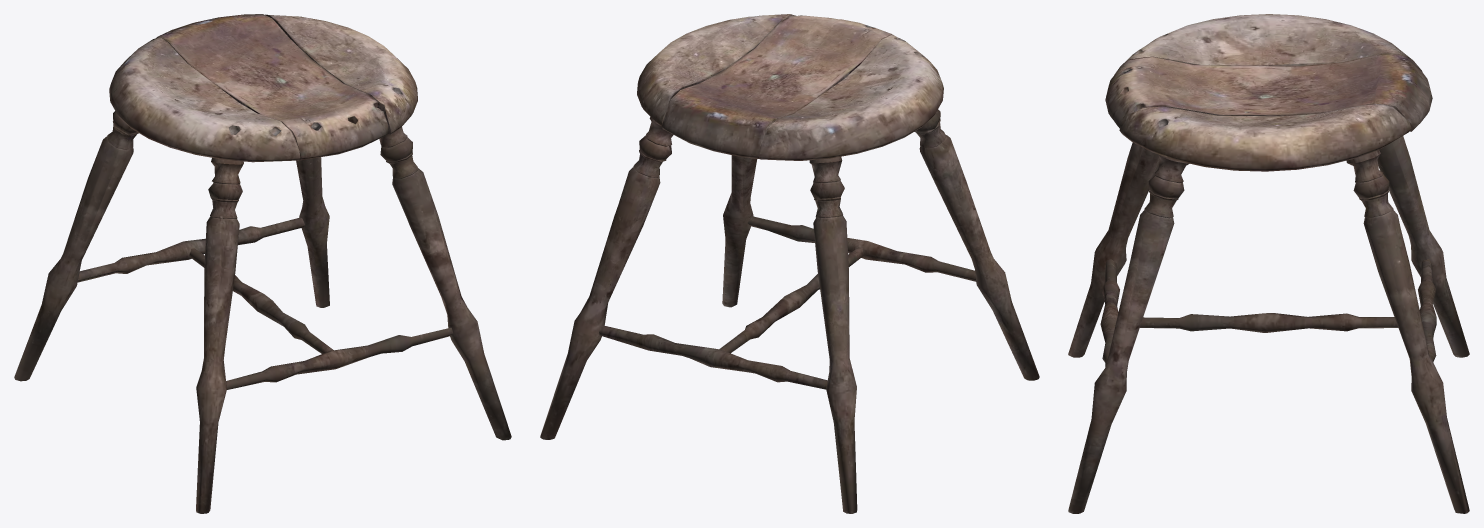
File: wooden_stool_01.glb
3 renders of one model, left to right at view 1: azimuth 30°, elevation 25°; view 2: azimuth 150°, elevation 25°; view 3: azimuth 270°, elevation 25°, orthographic. The views are drawn at different scales.
Visible parts, largest first — view 1: wooden_stool_01; view 2: wooden_stool_01; view 3: wooden_stool_01.
Part boxes in pixels (<box>): wooden_stool_01: <box>14,14,511,513</box>; wooden_stool_01: <box>540,14,1039,513</box>; wooden_stool_01: <box>1068,14,1469,513</box>.
Bounding box in the file's own units: 0.4242 × 0.4365 × 0.4417.
Materials: 1 (1 with a texture image).
